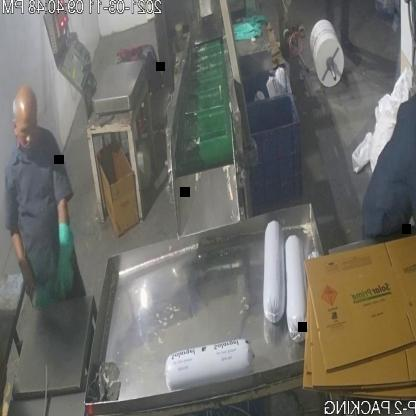glove: (53, 218, 79, 305)
no_glove: (7, 227, 36, 308)
